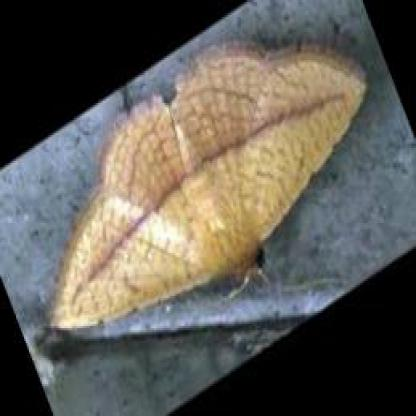Leaf Webber: (49, 41, 369, 326)
